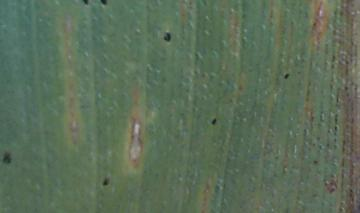tarspot: (2, 151, 13, 165), (161, 31, 172, 43), (100, 176, 110, 187), (281, 72, 291, 81), (210, 116, 217, 127), (312, 158, 319, 166), (98, 1, 108, 6), (80, 1, 90, 6), (311, 20, 317, 28), (333, 124, 337, 132)
